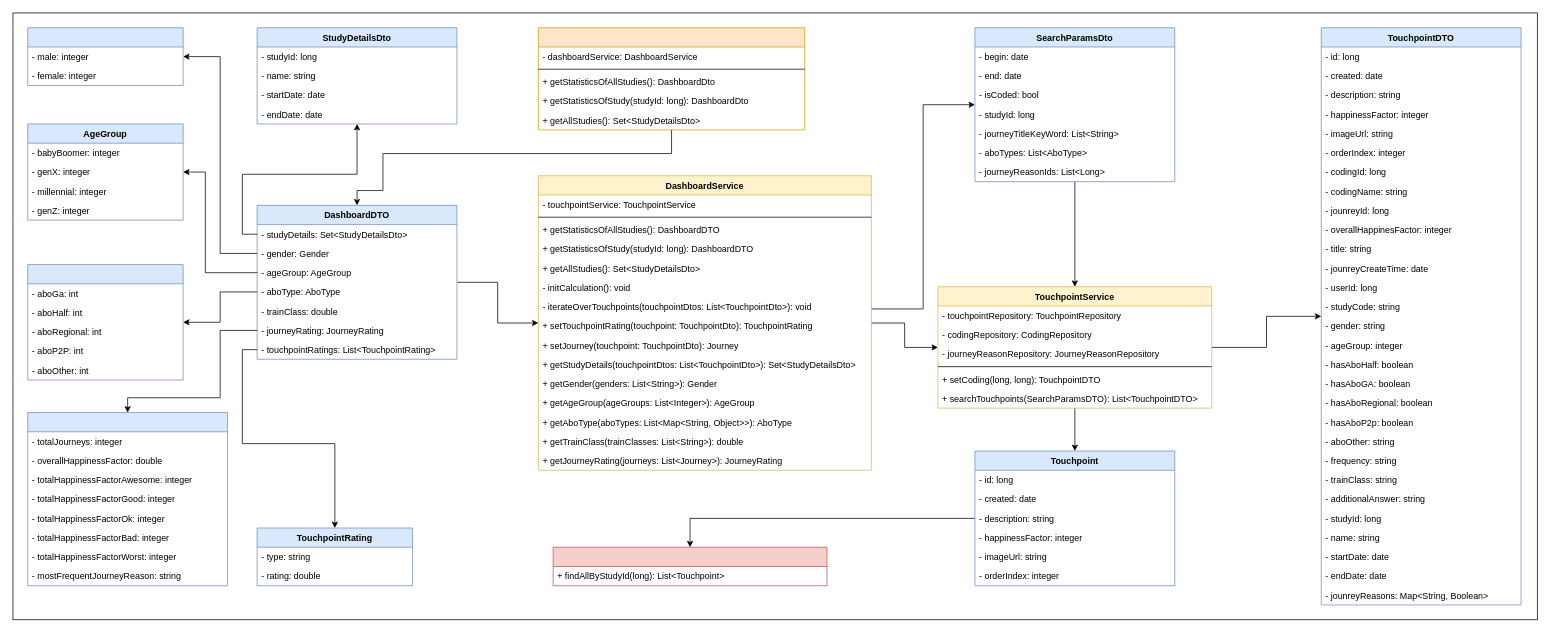
This 1550x633 diagram has some shape labels left out. The shapes that lost their labels are listed below. From the top down, each one's box as (x1, y1, x2, y2) in pixels, then its label:
(27, 27, 183, 85): Gender
(538, 27, 805, 130): DashboardController
(27, 264, 183, 380): AboType
(27, 412, 228, 586): JourneyRating
(552, 546, 827, 586): TouchpointRepository
